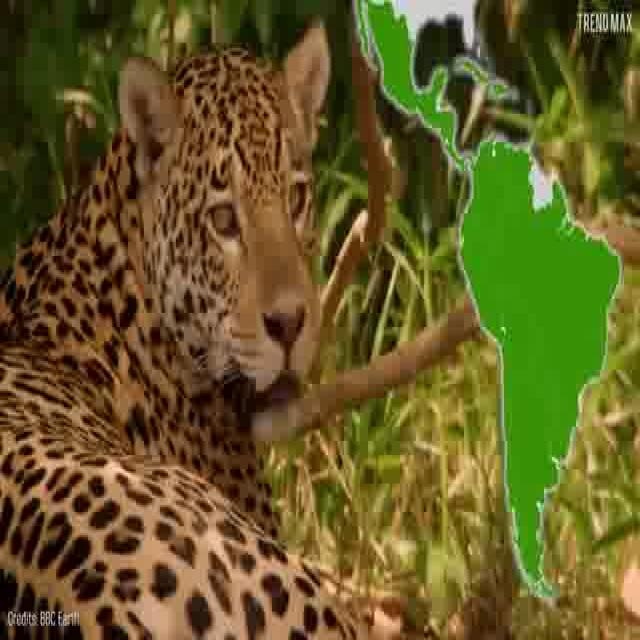Jaguar: (0, 12, 359, 640)
